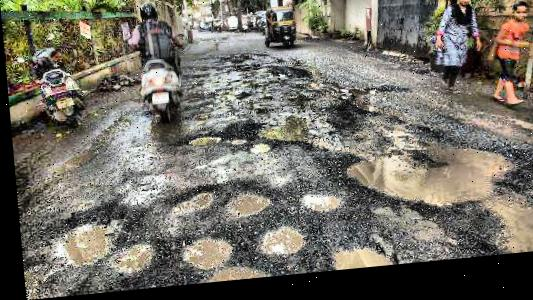pothole: (337, 139, 515, 222), (39, 211, 125, 270), (250, 112, 334, 158), (480, 205, 533, 264), (341, 89, 396, 129), (323, 244, 393, 274), (176, 236, 230, 273), (252, 227, 302, 260), (165, 190, 216, 221), (104, 241, 150, 275), (218, 192, 270, 221), (200, 265, 269, 285), (296, 196, 339, 218), (182, 135, 219, 151), (226, 142, 246, 150)
